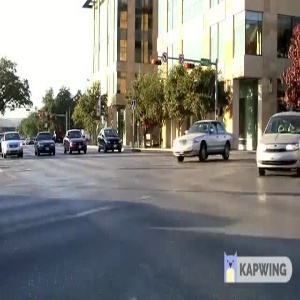car: (254, 108, 300, 182), (170, 118, 240, 164), (32, 126, 60, 156), (61, 125, 88, 153), (97, 125, 125, 151), (1, 129, 25, 159)
